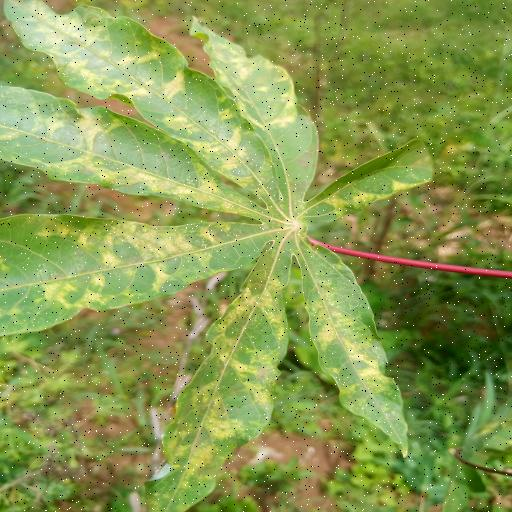Cassava_Mosaic: (2, 1, 434, 512)
